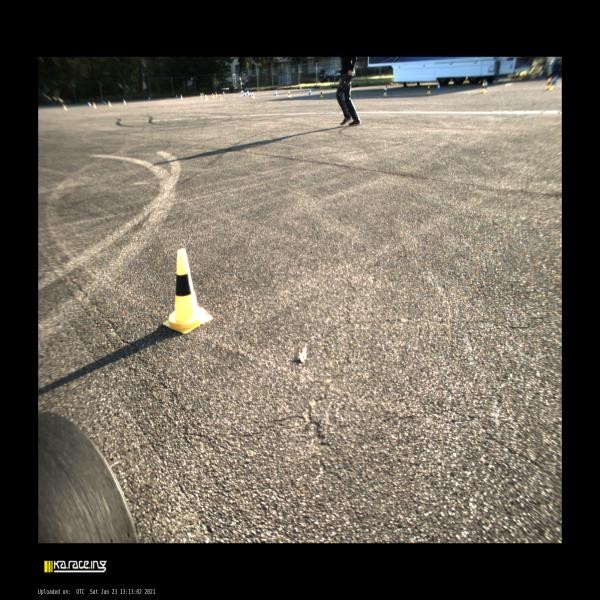blue_cone: (436, 82, 441, 92), (308, 88, 312, 95)
yellow_cone: (162, 248, 214, 334), (426, 85, 431, 95), (383, 87, 387, 96), (319, 90, 324, 97), (288, 90, 292, 98)
